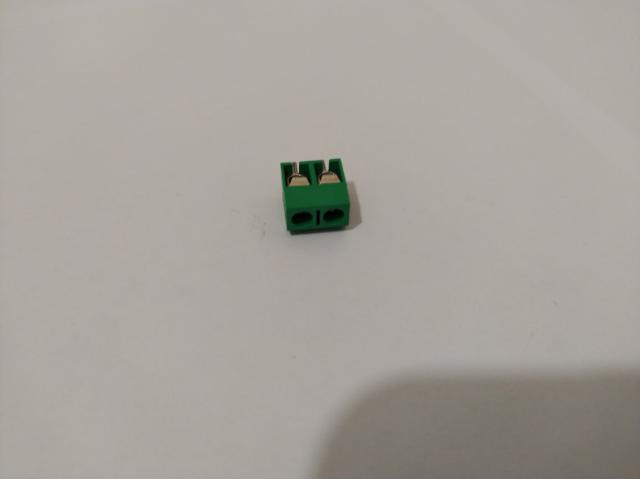terminal_block: (279, 158, 349, 232)
